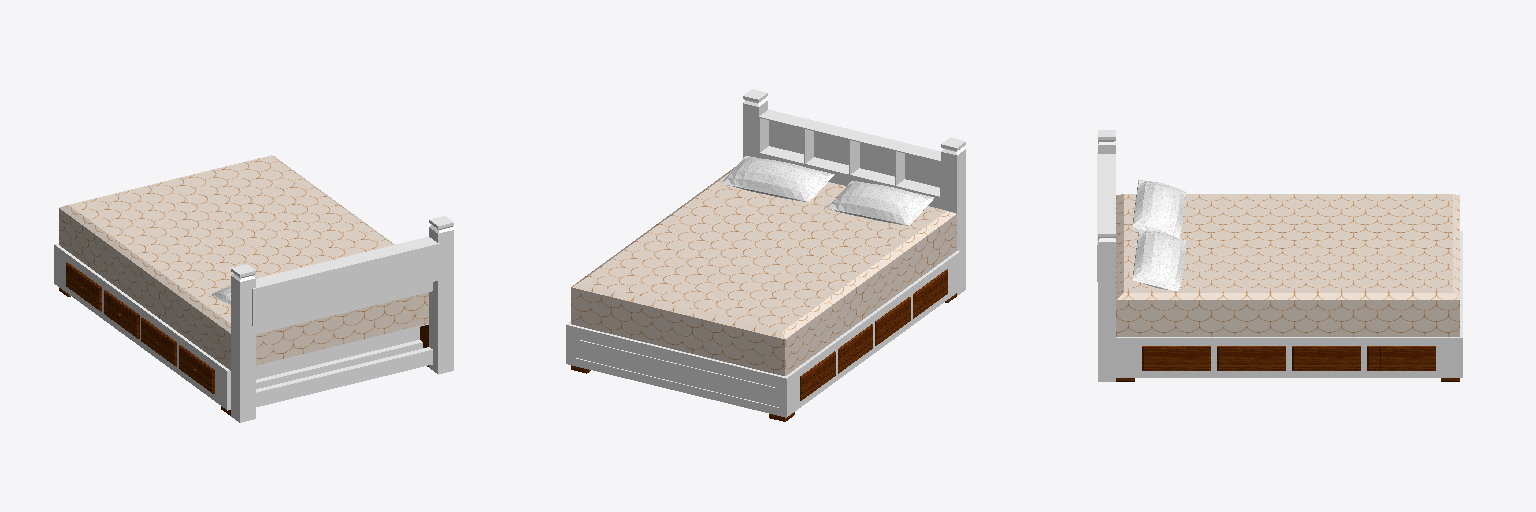
3 views of the same model, side by side, from view 1: azimuth 30°, elevation 25°; view 2: azimuth 150°, elevation 25°; view 3: azimuth 270°, elevation 25° (orthographic).
Visible parts, largest first — view 1: mesh2_mesh2-geometry, mesh43_mesh43-geometry, mesh35_mesh35-geometry, mesh39_mesh39-geometry, mesh6_mesh6-geometry, mesh19_mesh19-geometry, mesh12_mesh12-geometry, mesh37_mesh37-geometry, mesh27_mesh27-geometry; view 2: mesh2_mesh2-geometry, mesh29_mesh29-geometry, mesh1_mesh1-geometry, mesh37_mesh37-geometry, mesh6_mesh6-geometry, mesh43_mesh43-geometry, mesh19_mesh19-geometry, mesh35_mesh35-geometry, mesh45_mesh45-geometry; view 3: mesh2_mesh2-geometry, mesh6_mesh6-geometry, mesh19_mesh19-geometry, mesh1_mesh1-geometry, mesh35_mesh35-geometry, mesh37_mesh37-geometry.
Part boxes in pixels (x1,y1,x2,y2): mesh2_mesh2-geometry: (59,155,428,370); mesh43_mesh43-geometry: (252,243,442,325); mesh35_mesh35-geometry: (231,225,453,422); mesh39_mesh39-geometry: (256,282,432,406); mesh6_mesh6-geometry: (56,245,230,410); mesh19_mesh19-geometry: (66,262,214,393); mesh12_mesh12-geometry: (256,327,419,379); mesh37_mesh37-geometry: (256,237,437,287); mesh27_mesh27-geometry: (256,340,422,388); mesh2_mesh2-geometry: (571,167,956,375); mesh29_mesh29-geometry: (566,324,787,417); mesh1_mesh1-geometry: (723,156,933,225); mesh37_mesh37-geometry: (759,110,940,208); mesh6_mesh6-geometry: (568,251,959,415); mesh43_mesh43-geometry: (768,109,940,187); mesh19_mesh19-geometry: (800,269,947,400); mesh35_mesh35-geometry: (743,99,965,295); mesh45_mesh45-geometry: (759,118,940,196); mesh2_mesh2-geometry: (1116,194,1459,336); mesh6_mesh6-geometry: (1116,337,1459,377); mesh19_mesh19-geometry: (1142,346,1435,370); mesh1_mesh1-geometry: (1133,179,1186,290); mesh35_mesh35-geometry: (1098,141,1115,381); mesh37_mesh37-geometry: (1098,154,1115,225).
Size of the model in its own units: 0.5493 by 0.3402 by 0.7632.
Materials: 8 (3 with a texture image).